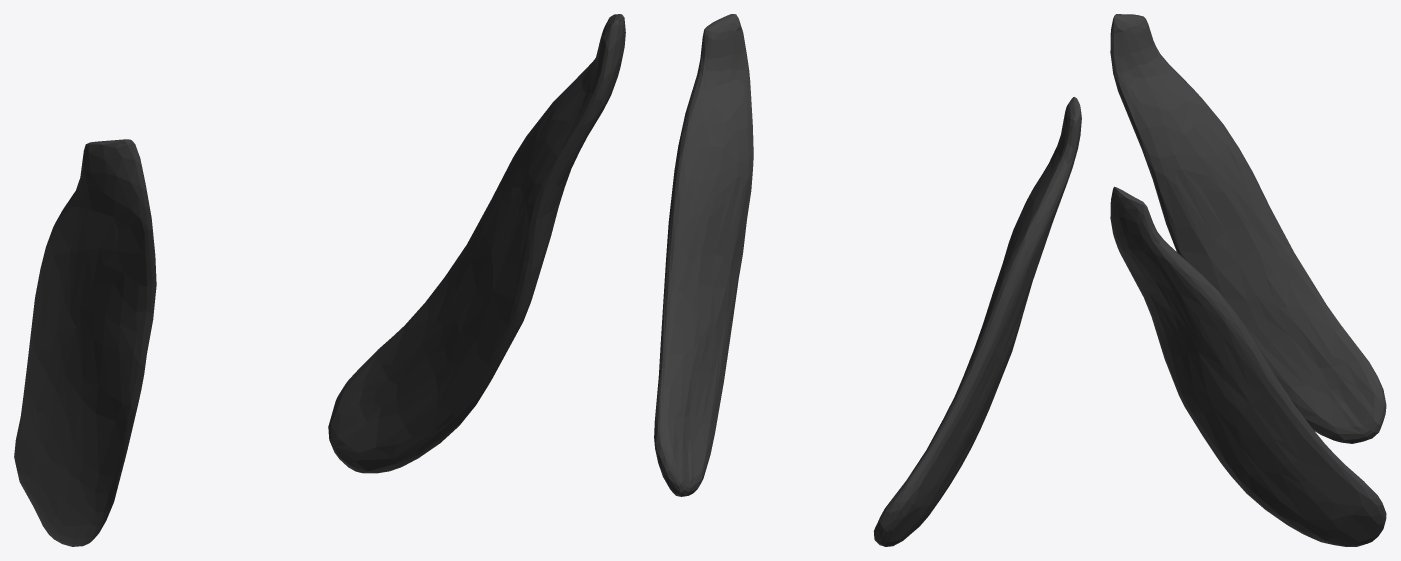
File: m_supraspinatus.glb
3 views of the same model, side by side, from view 1: azimuth 30°, elevation 25°; view 2: azimuth 150°, elevation 25°; view 3: azimuth 270°, elevation 25° (orthographic). The views are drawn at different scales.
Visible parts, largest first — view 1: m_supraspinatus; view 2: m_supraspinatus; view 3: m_supraspinatus.
Part boxes in pixels (bbox=[...]): m_supraspinatus: bbox=[14, 14, 625, 546]; m_supraspinatus: bbox=[654, 14, 1081, 546]; m_supraspinatus: bbox=[1110, 14, 1386, 546].
Bounding box in the file's own units: 0.00386 × 0.00373 × 0.00237.
Materials: 1 (1 with a texture image).
